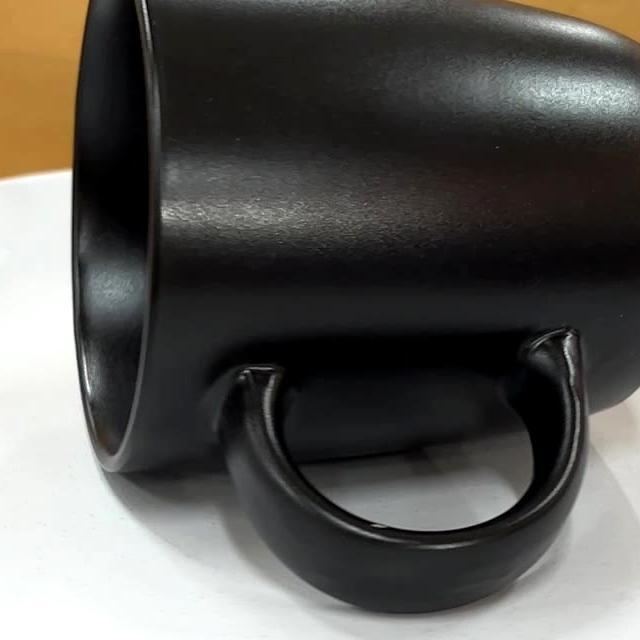cup: (73, 0, 640, 614)
